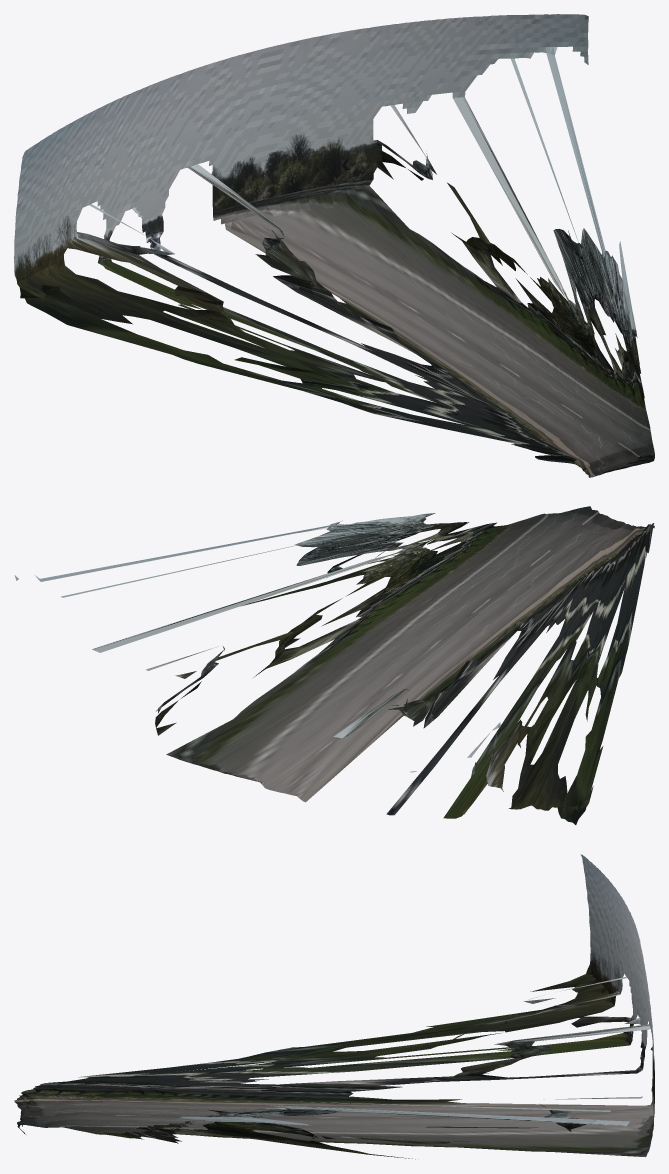
The picture shows the model from 3 angles, top to bottom: view 1: azimuth 30°, elevation 25°; view 2: azimuth 150°, elevation 25°; view 3: azimuth 270°, elevation 25°; orthographic projection. The views are drawn at different scales.
Parts seen in each view (by area): view 1: defaultobject; view 2: defaultobject; view 3: defaultobject.
Boxes of the visible parts, box(x1,y1,x2,y2) form: defaultobject: box(14, 14, 654, 477); defaultobject: box(14, 506, 654, 824); defaultobject: box(14, 854, 654, 1159).
Size of the model in its own units: 41 by 12.08 by 44.63.
1 material, 1 textured.
